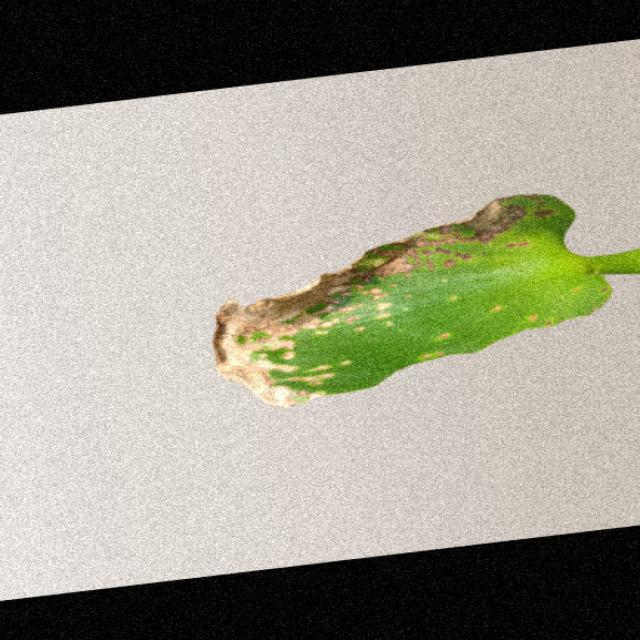daun berpenyakit bercak: (217, 195, 638, 407)
